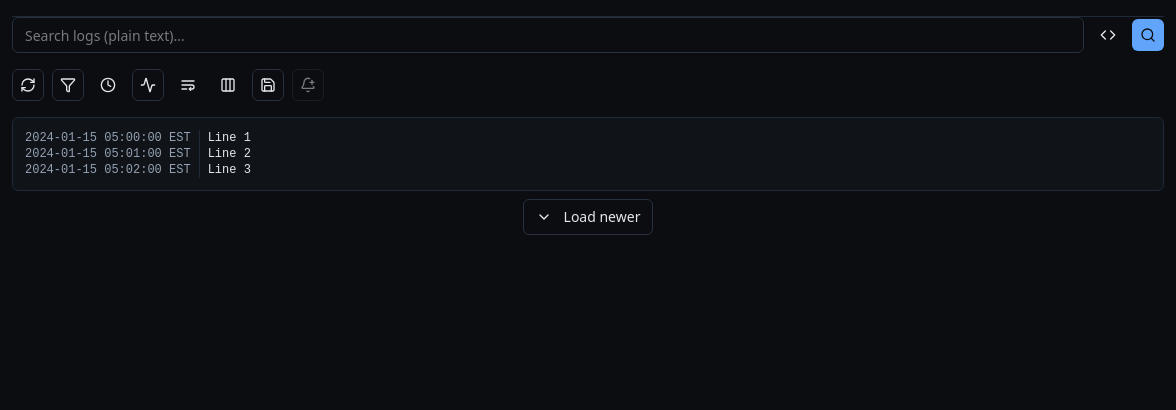
Scenario: LogsExplorerBody (surrounding mode) › exit restores normal mode and controls
Enter mode
Click the button with test id "log-row" showing "2024-01-15 05:00:00 EST Line 1" at x=138, y=138, box top-left (25, 130), bottom-right (251, 146)
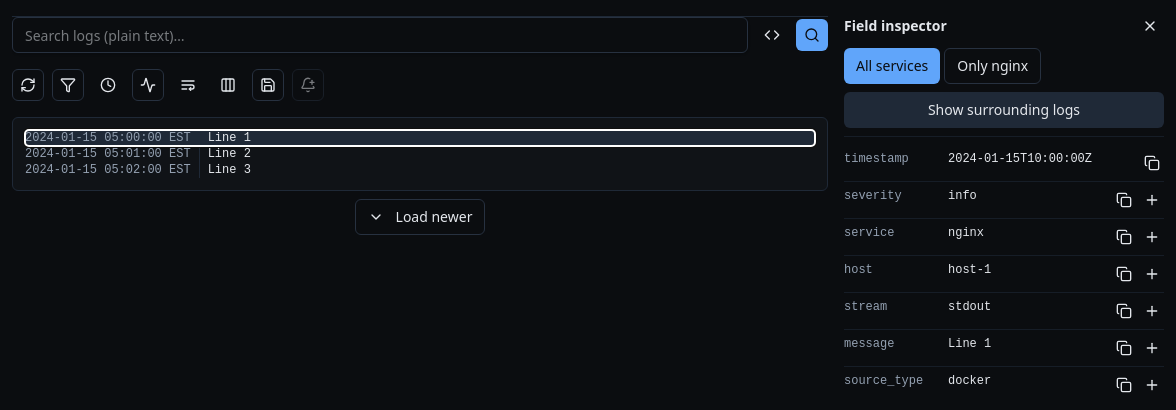
Click the button with test id "show-surrounding-logs" at x=1004, y=110, box top-left (844, 92), bottom-right (1164, 128)
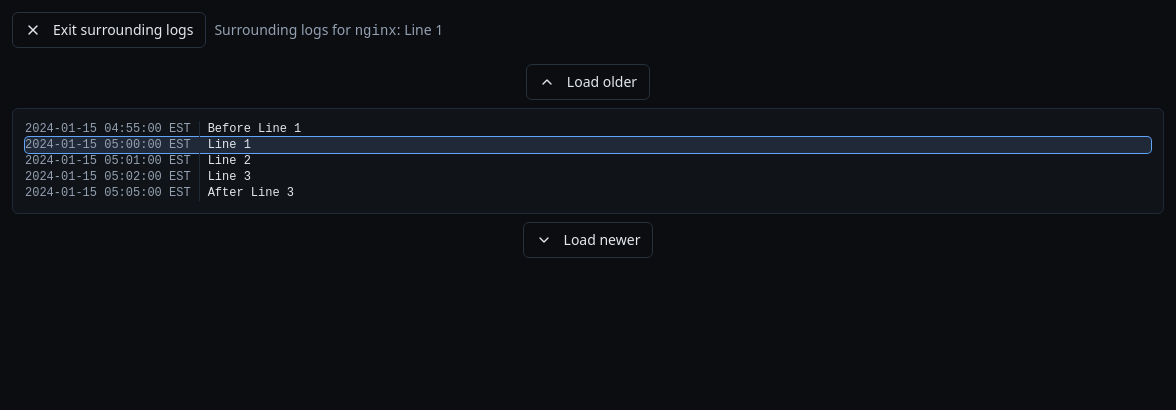
Expected: the element with test id "surrounding-mode-bar" is shown, top-left (12, 12), bottom-right (443, 48)
Exit mode
Click the button with test id "surrounding-exit" at x=109, y=30, box top-left (12, 12), bottom-right (206, 48)
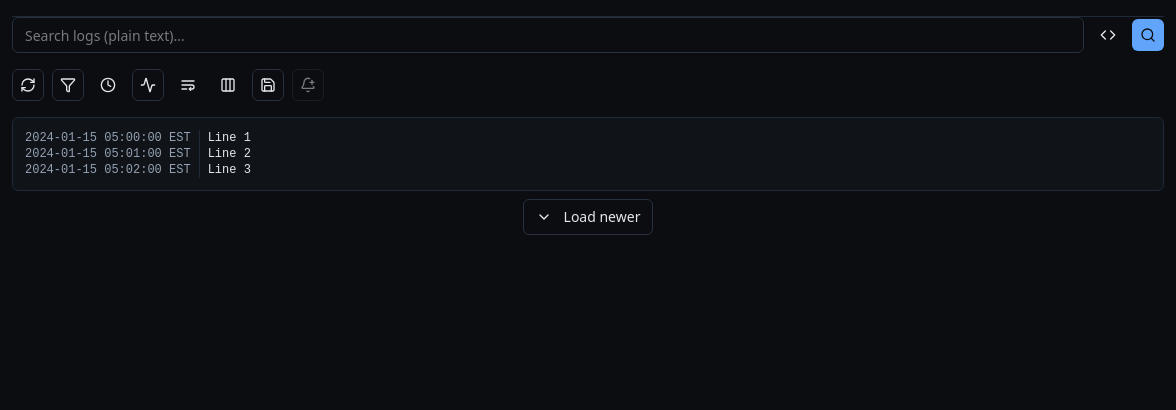
Expected: the element with test id "surrounding-mode-bar" is gone
Expected: the field with test id "logs-search-input" is shown, top-left (12, 17), bottom-right (1084, 53)
